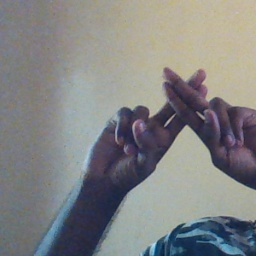F: (130, 53, 238, 161)
